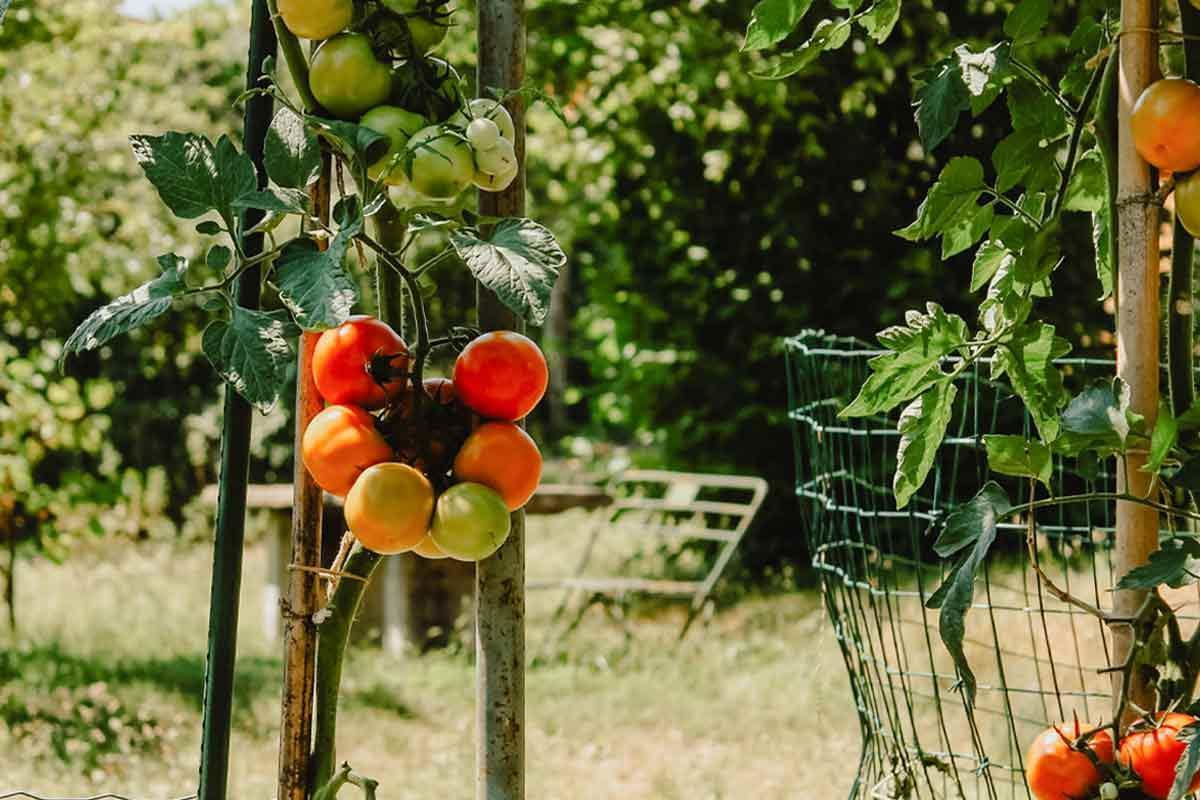healthy-tomato: (302, 317, 421, 417), (454, 422, 577, 517), (450, 332, 559, 426), (298, 407, 394, 507)
